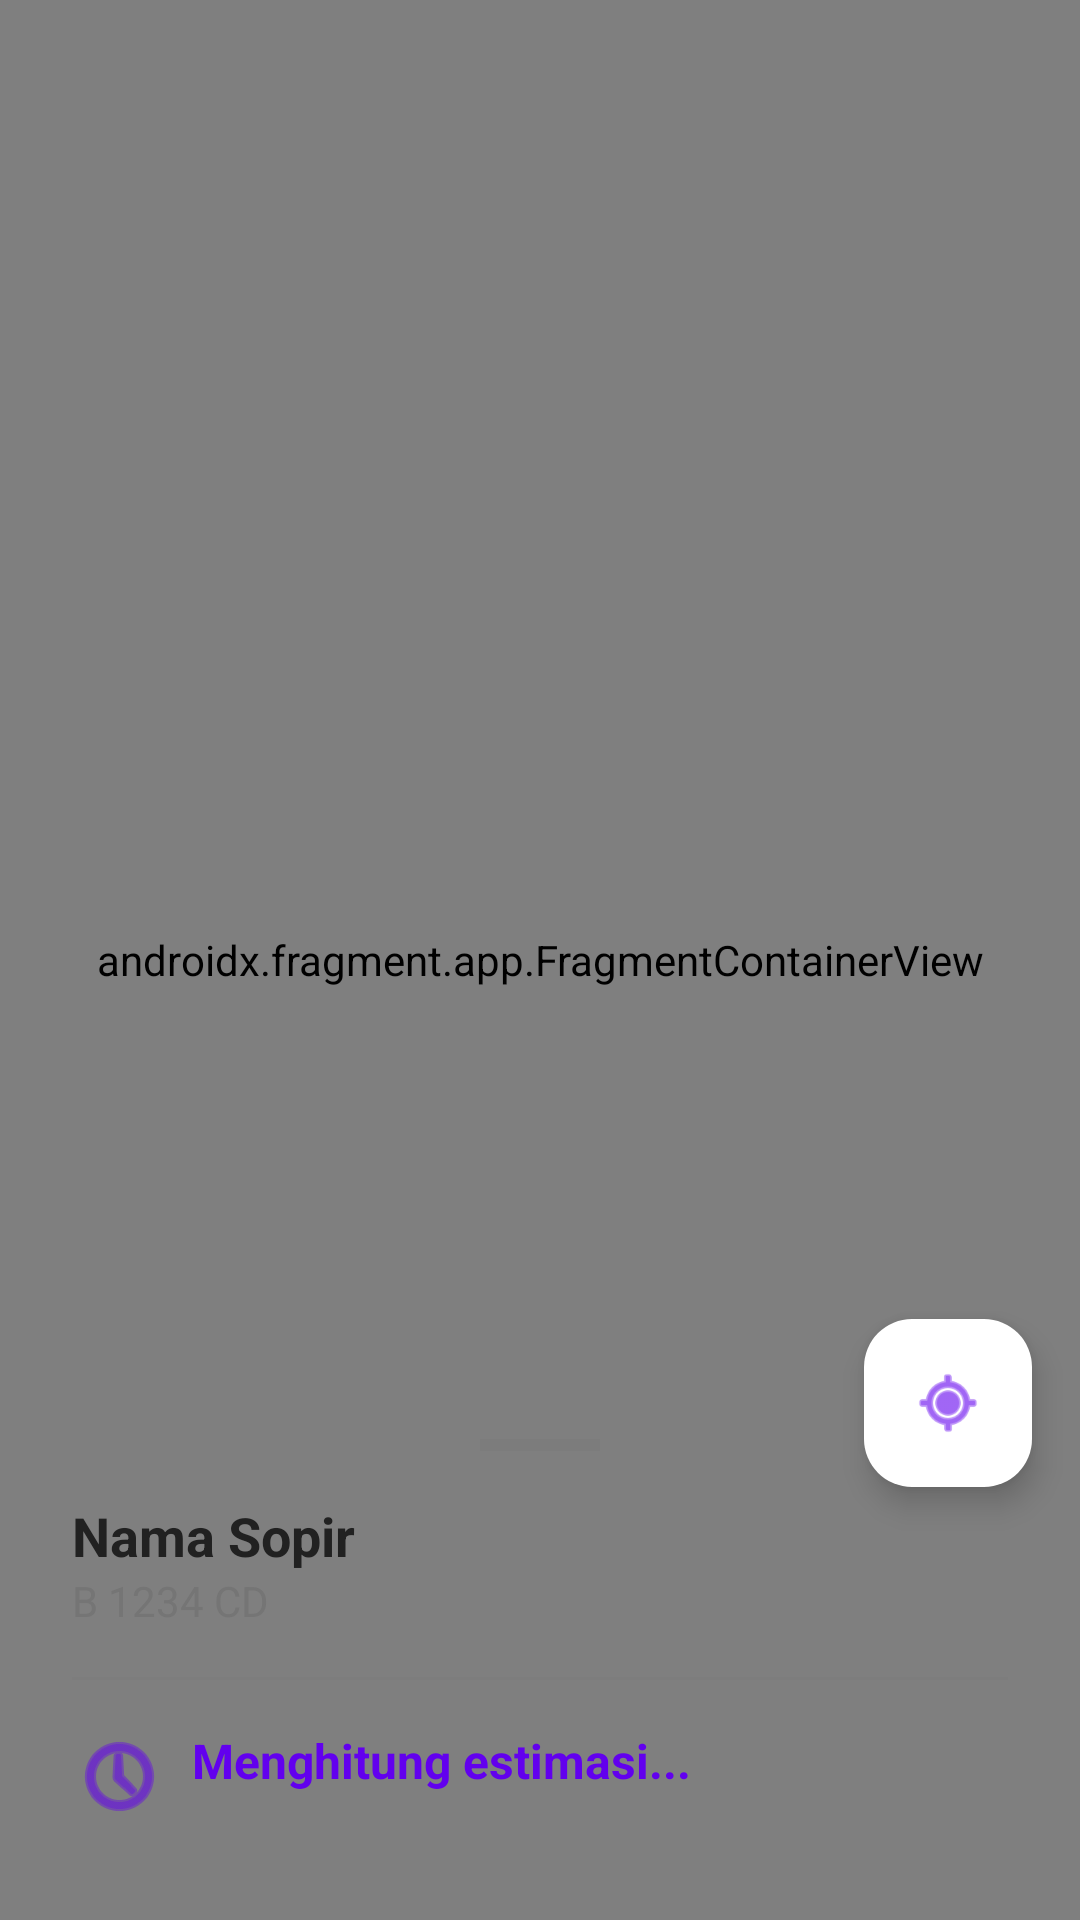

Icon bounding boxes for this 1080 x 1920 phone screenshot, format (x1, y1, x2, y2):
Lokasi Saya: (864, 1319, 1032, 1487)
